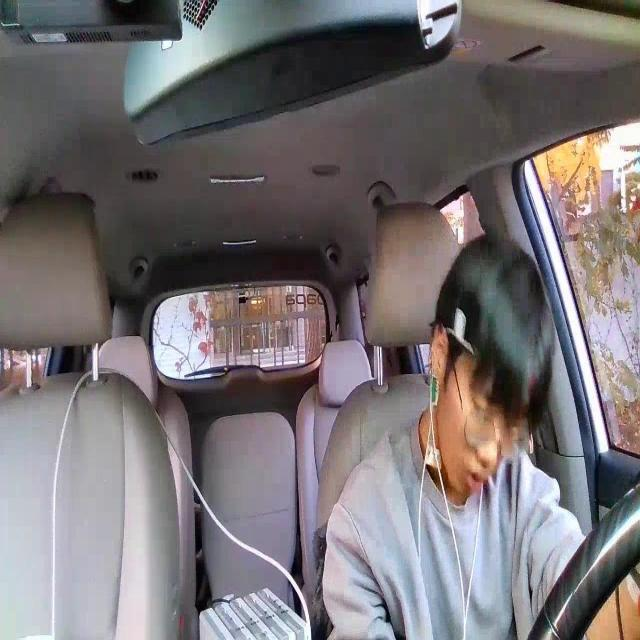Inattentive: (430, 229, 555, 490)
